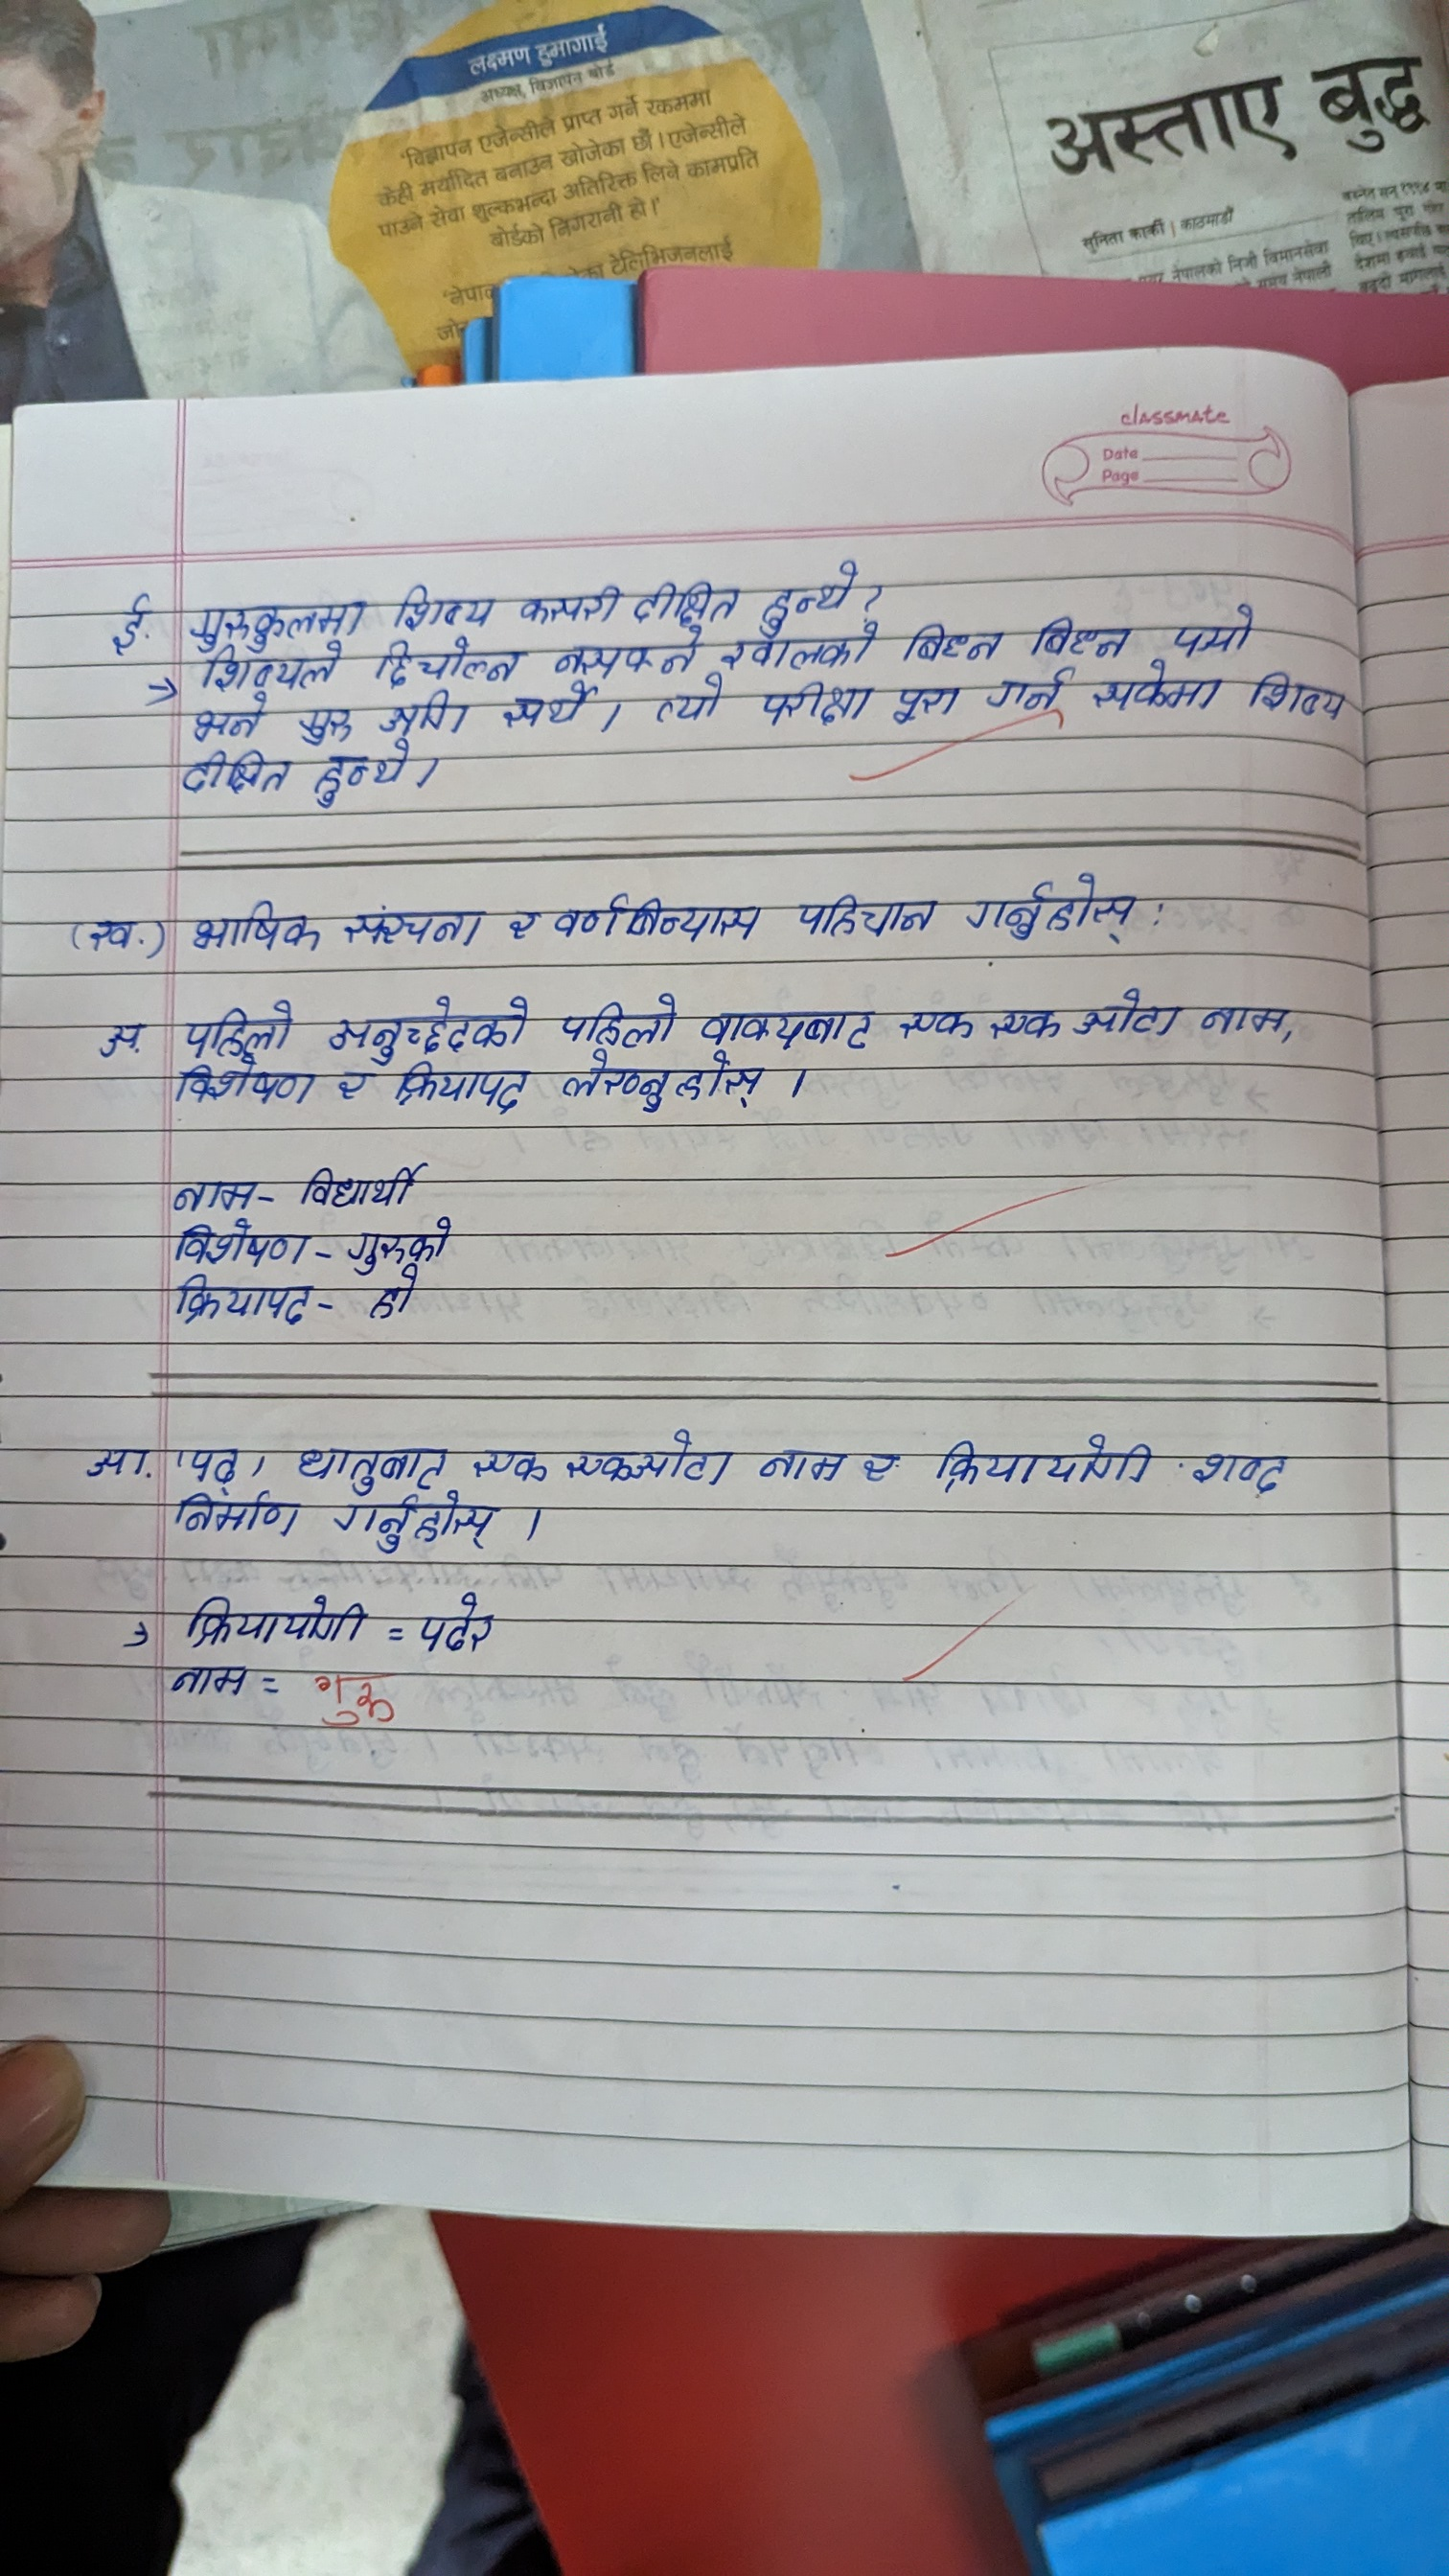text: (931, 1426, 1155, 1500), (322, 994, 531, 1058), (962, 870, 1139, 945), (554, 890, 766, 948), (559, 1424, 731, 1490), (557, 1056, 764, 1109), (182, 1598, 366, 1651), (327, 1495, 490, 1553), (180, 593, 357, 644), (796, 888, 945, 948), (1180, 1444, 1313, 1509), (288, 1437, 446, 1488), (173, 1056, 317, 1109), (699, 1005, 870, 1049), (752, 556, 862, 625), (165, 1277, 311, 1329), (182, 904, 324, 957), (414, 1585, 515, 1658), (311, 748, 419, 816), (393, 1060, 529, 1113), (292, 1157, 419, 1214), (163, 1221, 308, 1270), (172, 998, 301, 1053), (557, 994, 685, 1049), (170, 1491, 308, 1541), (343, 902, 479, 952), (1072, 987, 1182, 1047), (725, 630, 879, 672), (340, 1217, 469, 1267), (200, 648, 349, 690), (1093, 665, 1221, 715), (550, 633, 704, 674), (373, 640, 517, 681), (177, 752, 290, 803), (308, 1665, 398, 1729), (1164, 603, 1260, 660), (761, 683, 869, 732), (387, 580, 495, 626), (754, 1437, 847, 1488), (899, 617, 1003, 663), (501, 685, 602, 731), (630, 582, 738, 625), (1028, 612, 1131, 656), (92, 587, 154, 658), (987, 671, 1077, 718), (166, 1169, 258, 1214), (1196, 998, 1286, 1042), (522, 584, 616, 626), (379, 692, 469, 734), (465, 1444, 548, 1490), (890, 683, 964, 734), (649, 676, 724, 725), (193, 694, 264, 741), (170, 1665, 251, 1706), (87, 1440, 152, 1490), (363, 1272, 423, 1325), (85, 915, 149, 962), (895, 1008, 975, 1044), (184, 1437, 239, 1488), (987, 1007, 1063, 1042), (92, 1017, 150, 1063), (294, 704, 352, 745), (856, 1444, 904, 1490), (502, 906, 540, 947), (333, 1067, 370, 1106)
